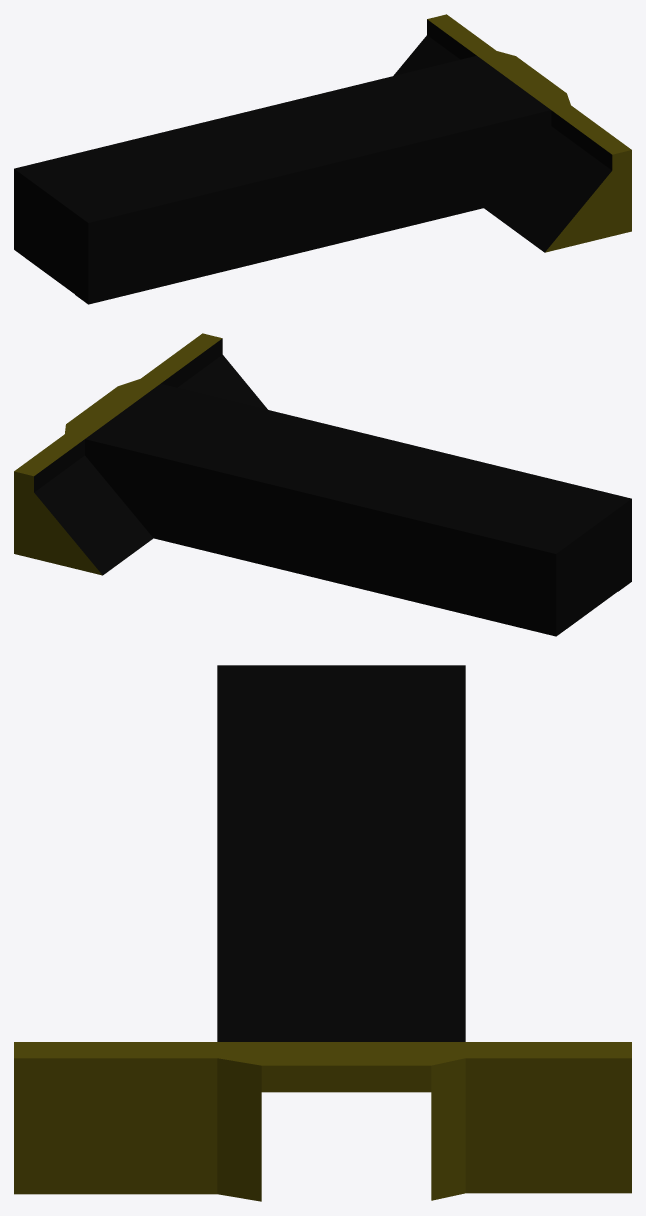
File: tunel.fbx
3 views of the same model, one above another, from view 1: azimuth 30°, elevation 25°; view 2: azimuth 150°, elevation 25°; view 3: azimuth 270°, elevation 25° (orthographic). The views are drawn at different scales.
Visible parts, largest first — view 1: Cube; view 2: Cube; view 3: Cube.
Part boxes in pixels (bbox=[...]): Cube: bbox=[14, 14, 631, 304]; Cube: bbox=[14, 333, 631, 636]; Cube: bbox=[14, 665, 631, 1201].
Size of the model in its own units: 25.12 by 3.98 by 16.39.
